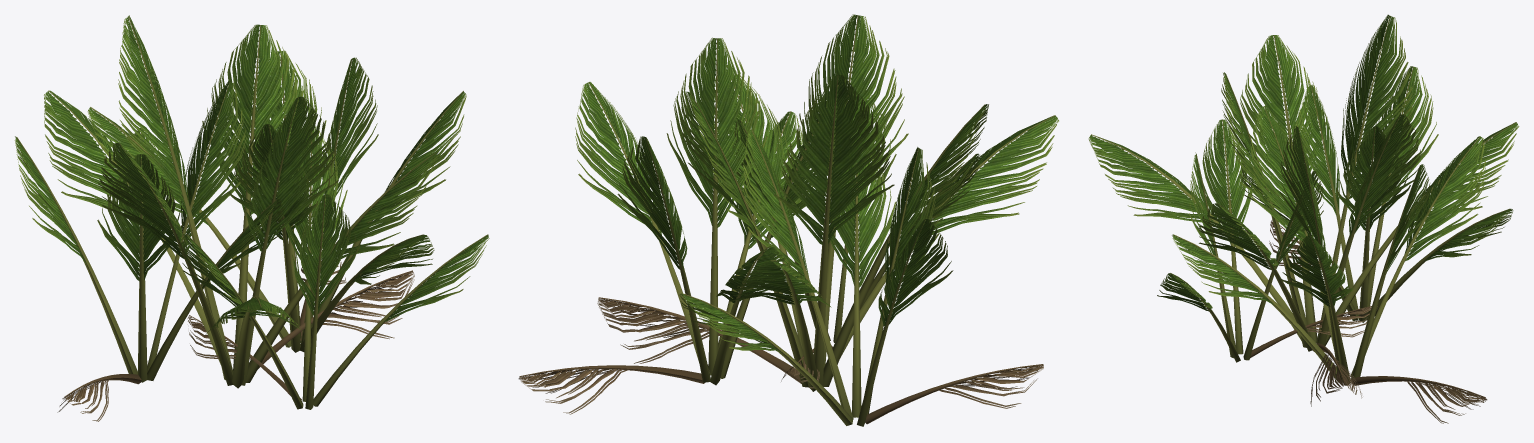
File: nipa.glb
The picture shows the model from 3 angles, left to right: view 1: azimuth 30°, elevation 25°; view 2: azimuth 150°, elevation 25°; view 3: azimuth 270°, elevation 25°; orthographic projection. The views are drawn at different scales.
Visible parts, largest first — view 1: nipa_fronds, nipa_rachis; view 2: nipa_fronds, nipa_rachis; view 3: nipa_fronds, nipa_rachis.
Boxes of the visible parts, x1,y1,x2,y2 form: nipa_fronds: (14, 15, 489, 421); nipa_rachis: (16, 16, 487, 409); nipa_fronds: (518, 14, 1058, 414); nipa_rachis: (519, 15, 1055, 426); nipa_fronds: (1088, 14, 1519, 423); nipa_rachis: (1091, 16, 1516, 397).
Size of the model in its own units: 6.34 by 5.11 by 6.41.
Materials: 2 (1 with a texture image).
